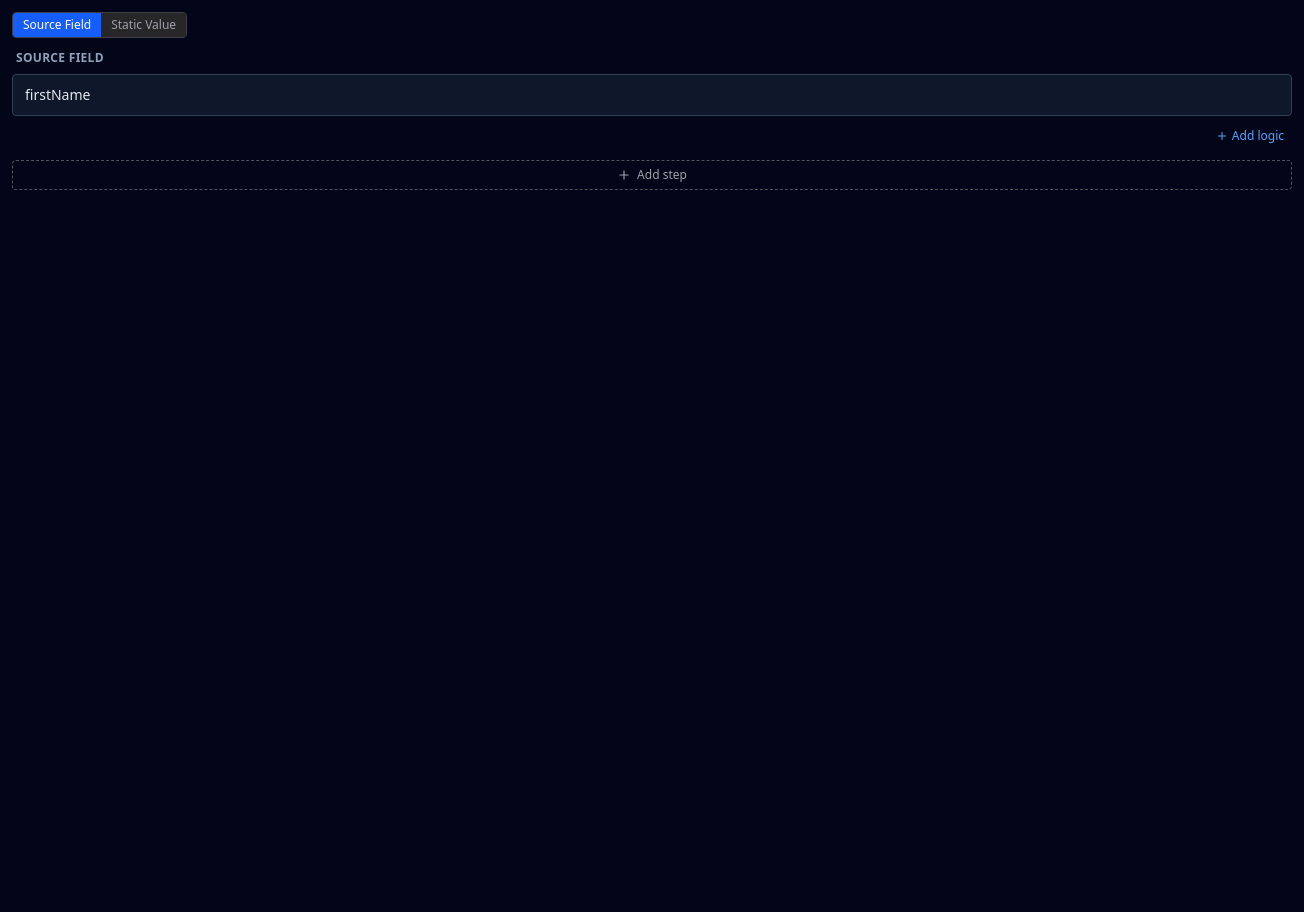
Test case: ChainBuilder › closes step picker after adding a condition
The width and height of the screenshot is (1304, 912).
Step 1. Click the button with test id "chain-add-step-btn" → (652, 175), box left=12, top=160, right=1292, bottom=190
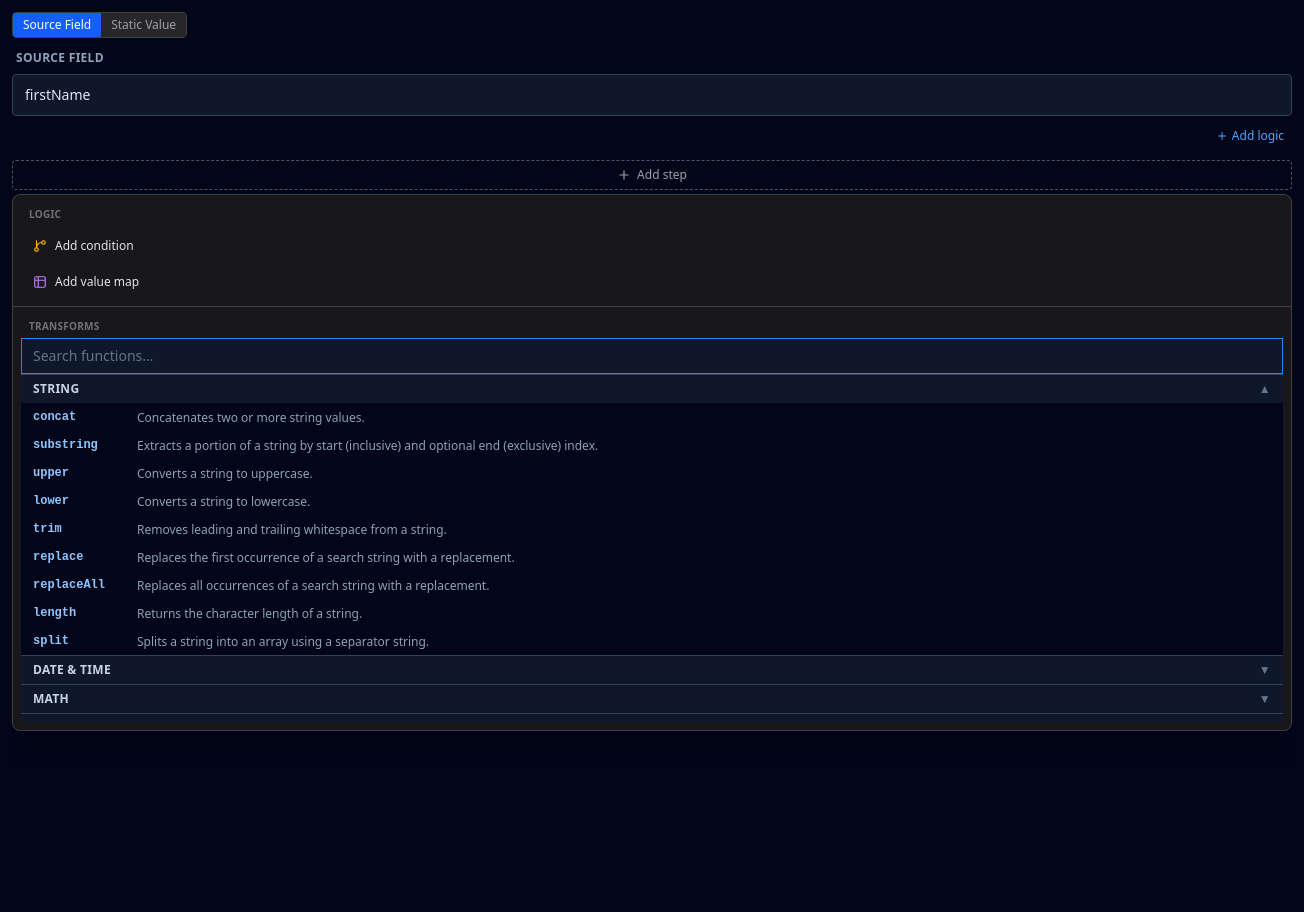
Expected: the element with test id "chain-step-picker" is shown, left=12, top=194, right=1292, bottom=731
Step 2. Click the button with test id "chain-step-picker-condition" → (94, 246), box left=21, top=230, right=1283, bottom=262
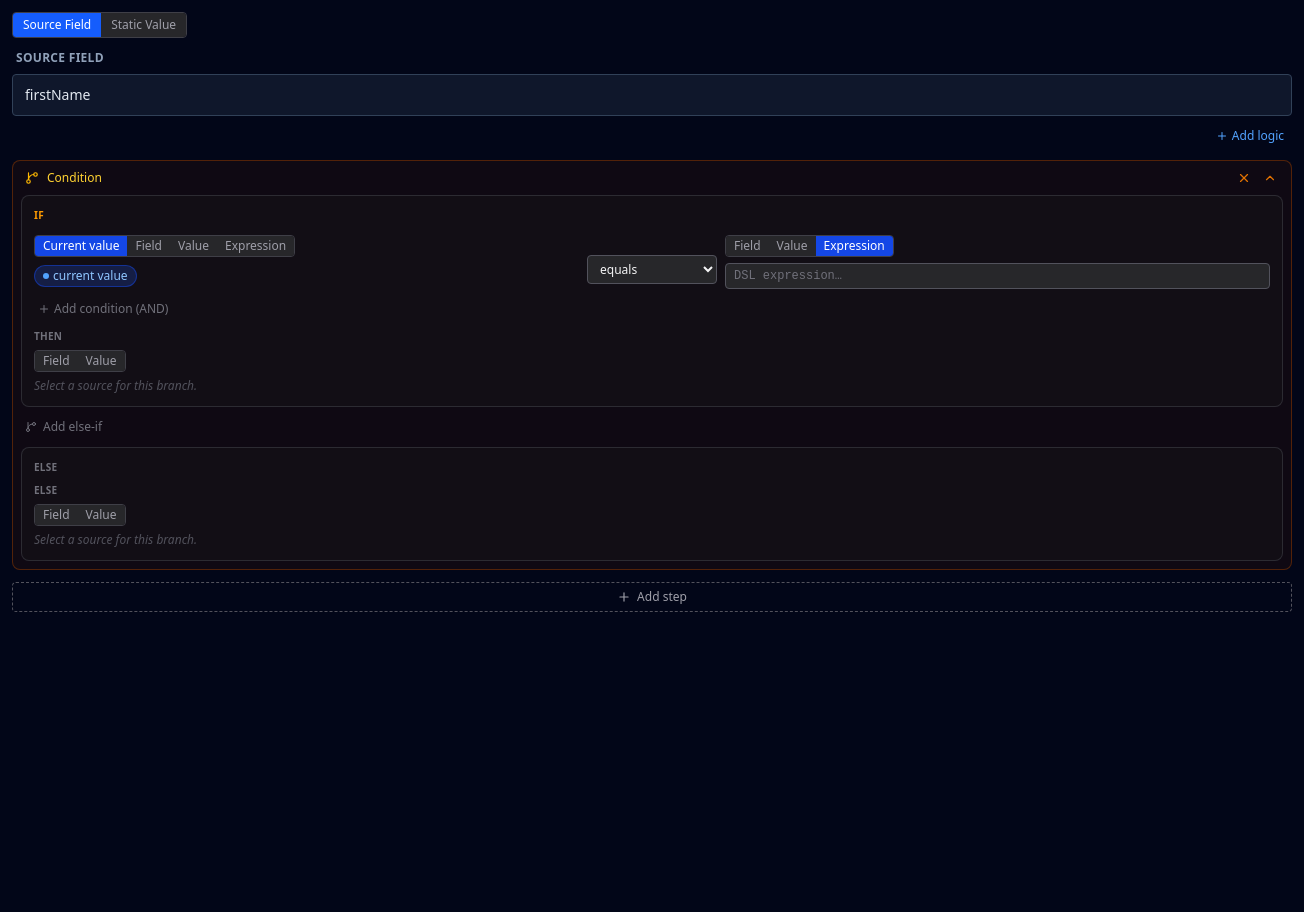
Expected: the element with test id "chain-step-picker" is gone
